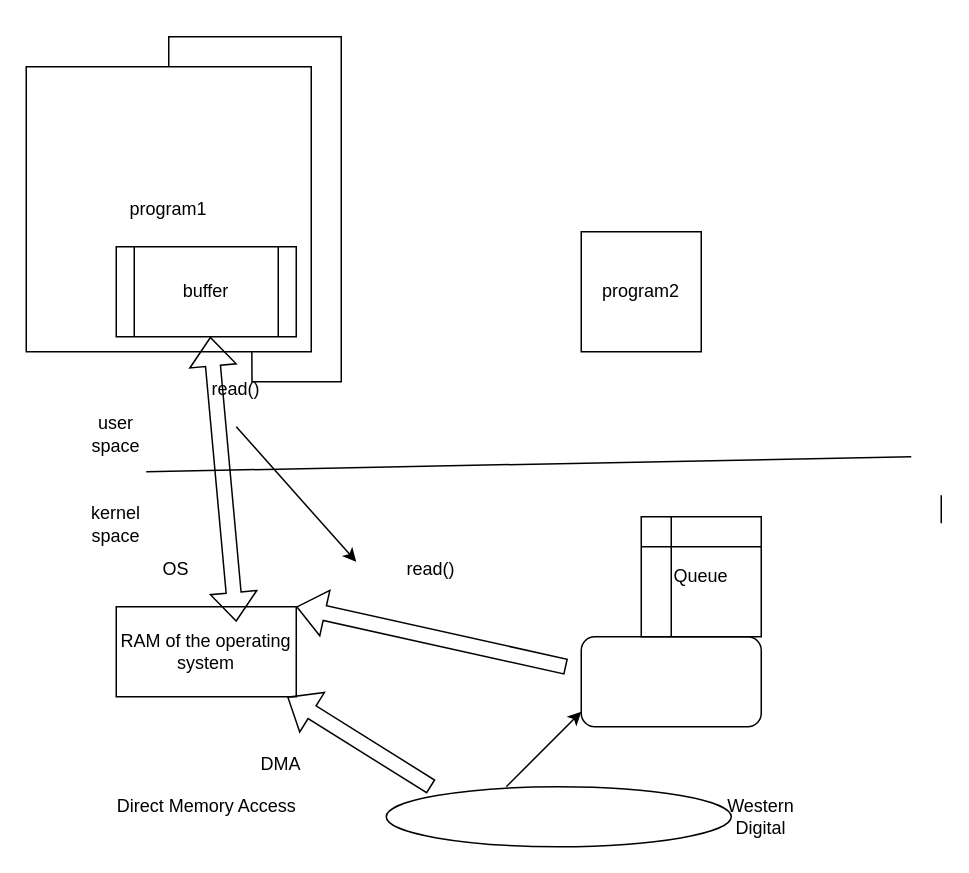
This 969x873 diagram has some shape labels left out. The box of each missing label's shape, as (x1, y1, x2, y2) in pixels:
driver: (580, 635, 761, 727)
my hard drive: (385, 785, 731, 847)
